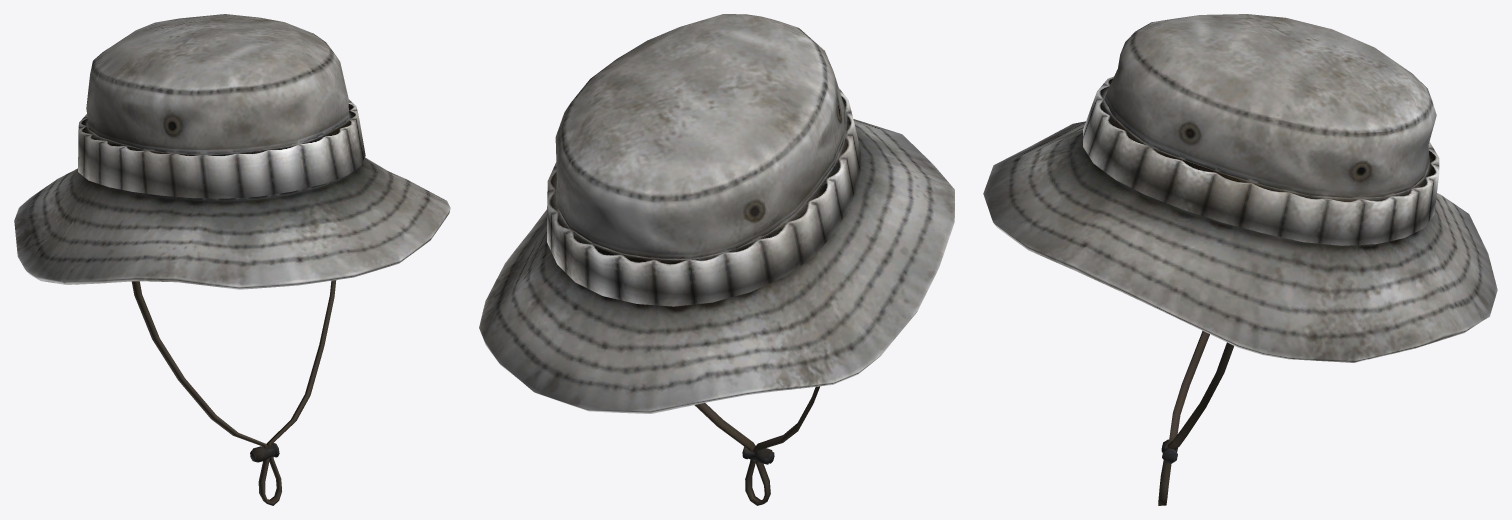
File: SurvivorMale_Head_Hat_Boonie_LOD0.glb
The picture shows the model from 3 angles, left to right: view 1: azimuth 30°, elevation 25°; view 2: azimuth 150°, elevation 25°; view 3: azimuth 270°, elevation 25°; orthographic projection. The views are drawn at different scales.
Visible parts, largest first — view 1: Hoodie; view 2: Hoodie; view 3: Hoodie.
Boxes of the visible parts, x1=… form: Hoodie: x1=14, y1=14, x2=450, y2=505; Hoodie: x1=479, y1=14, x2=954, y2=505; Hoodie: x1=983, y1=14, x2=1497, y2=505.
Size of the model in its own units: 0.2807 by 0.3417 by 0.3349.
1 material, 1 textured.
